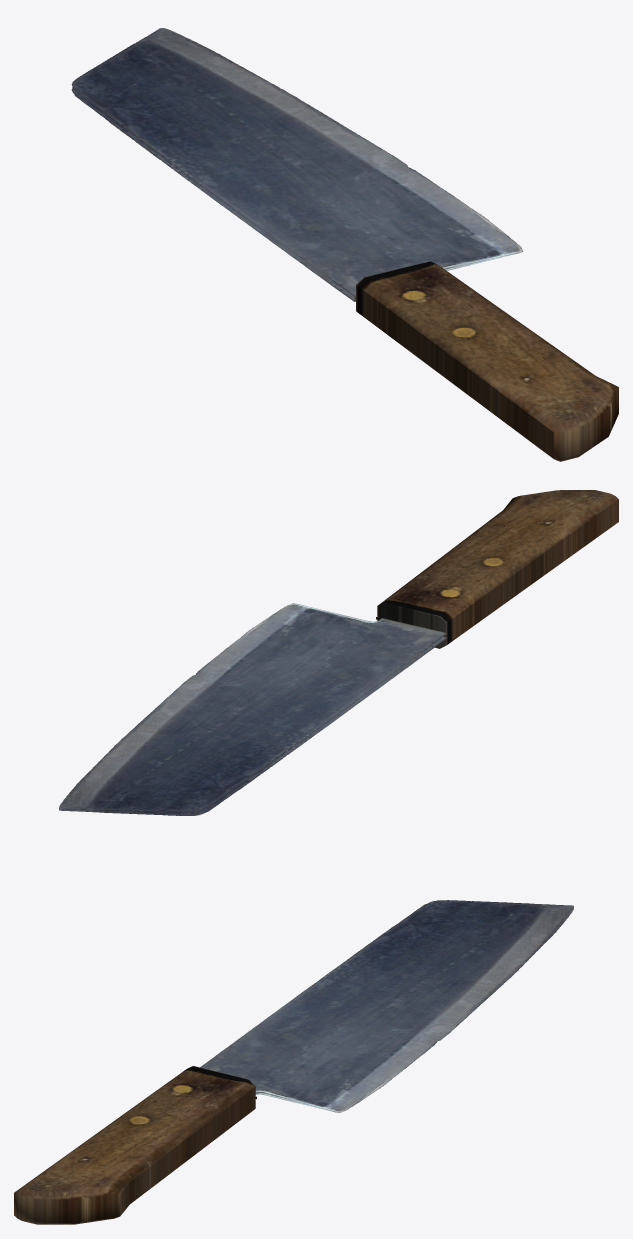
File: knife-2.FBX
3 renders of one model, top to bottom at view 1: azimuth 30°, elevation 25°; view 2: azimuth 150°, elevation 25°; view 3: azimuth 330°, elevation 25°, orthographic. The views are drawn at different scales.
Visible parts, largest first — view 1: Line01; view 2: Line01; view 3: Line01.
Part boxes in pixels (x1=…): Line01: x1=71, y1=28, x2=618, y2=461; Line01: x1=59, y1=490, x2=618, y2=815; Line01: x1=14, y1=900, x2=573, y2=1224.
Size of the model in its own units: 3.78 by 0.7023 by 17.77.
